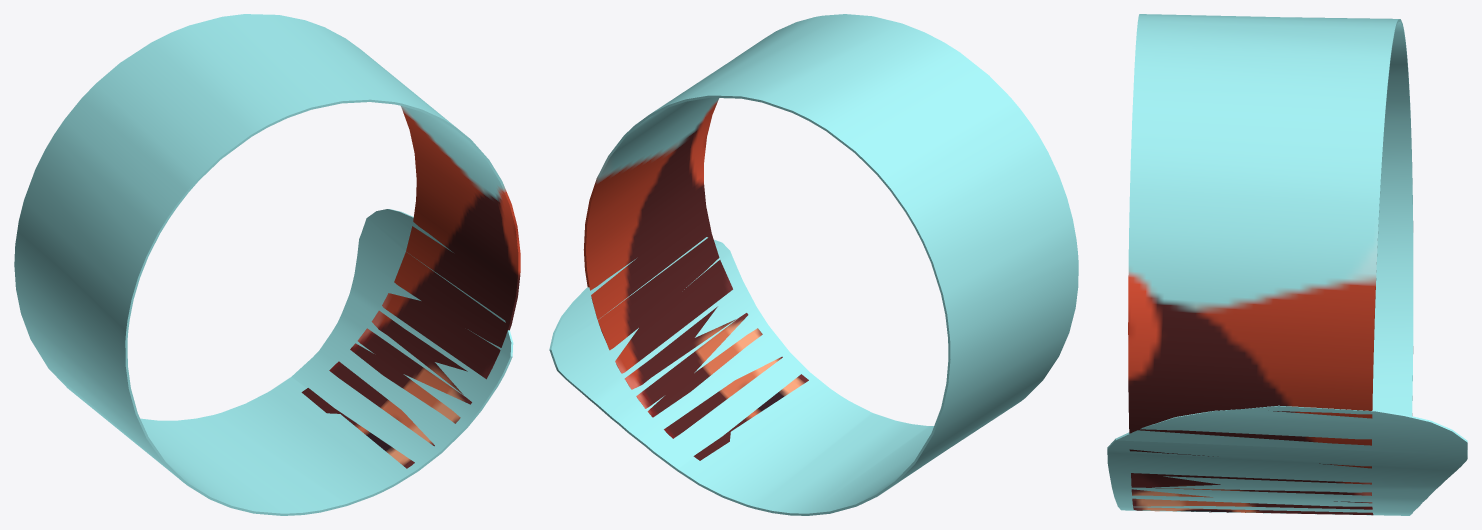
File: Level 175 unroll flute.fbx
The picture shows the model from 3 angles, left to right: view 1: azimuth 30°, elevation 25°; view 2: azimuth 150°, elevation 25°; view 3: azimuth 270°, elevation 25°; orthographic projection. The views are drawn at different scales.
Parts seen in each view (by area): view 1: Blend; view 2: Blend; view 3: Blend.
Part boxes in pixels (left/top/right/bottom): Blend: left=14, top=14, right=520, bottom=515; Blend: left=549, top=14, right=1078, bottom=515; Blend: left=1107, top=14, right=1467, bottom=515.
Size of what is drawn, in the model's own units: 186 by 182 by 132.
